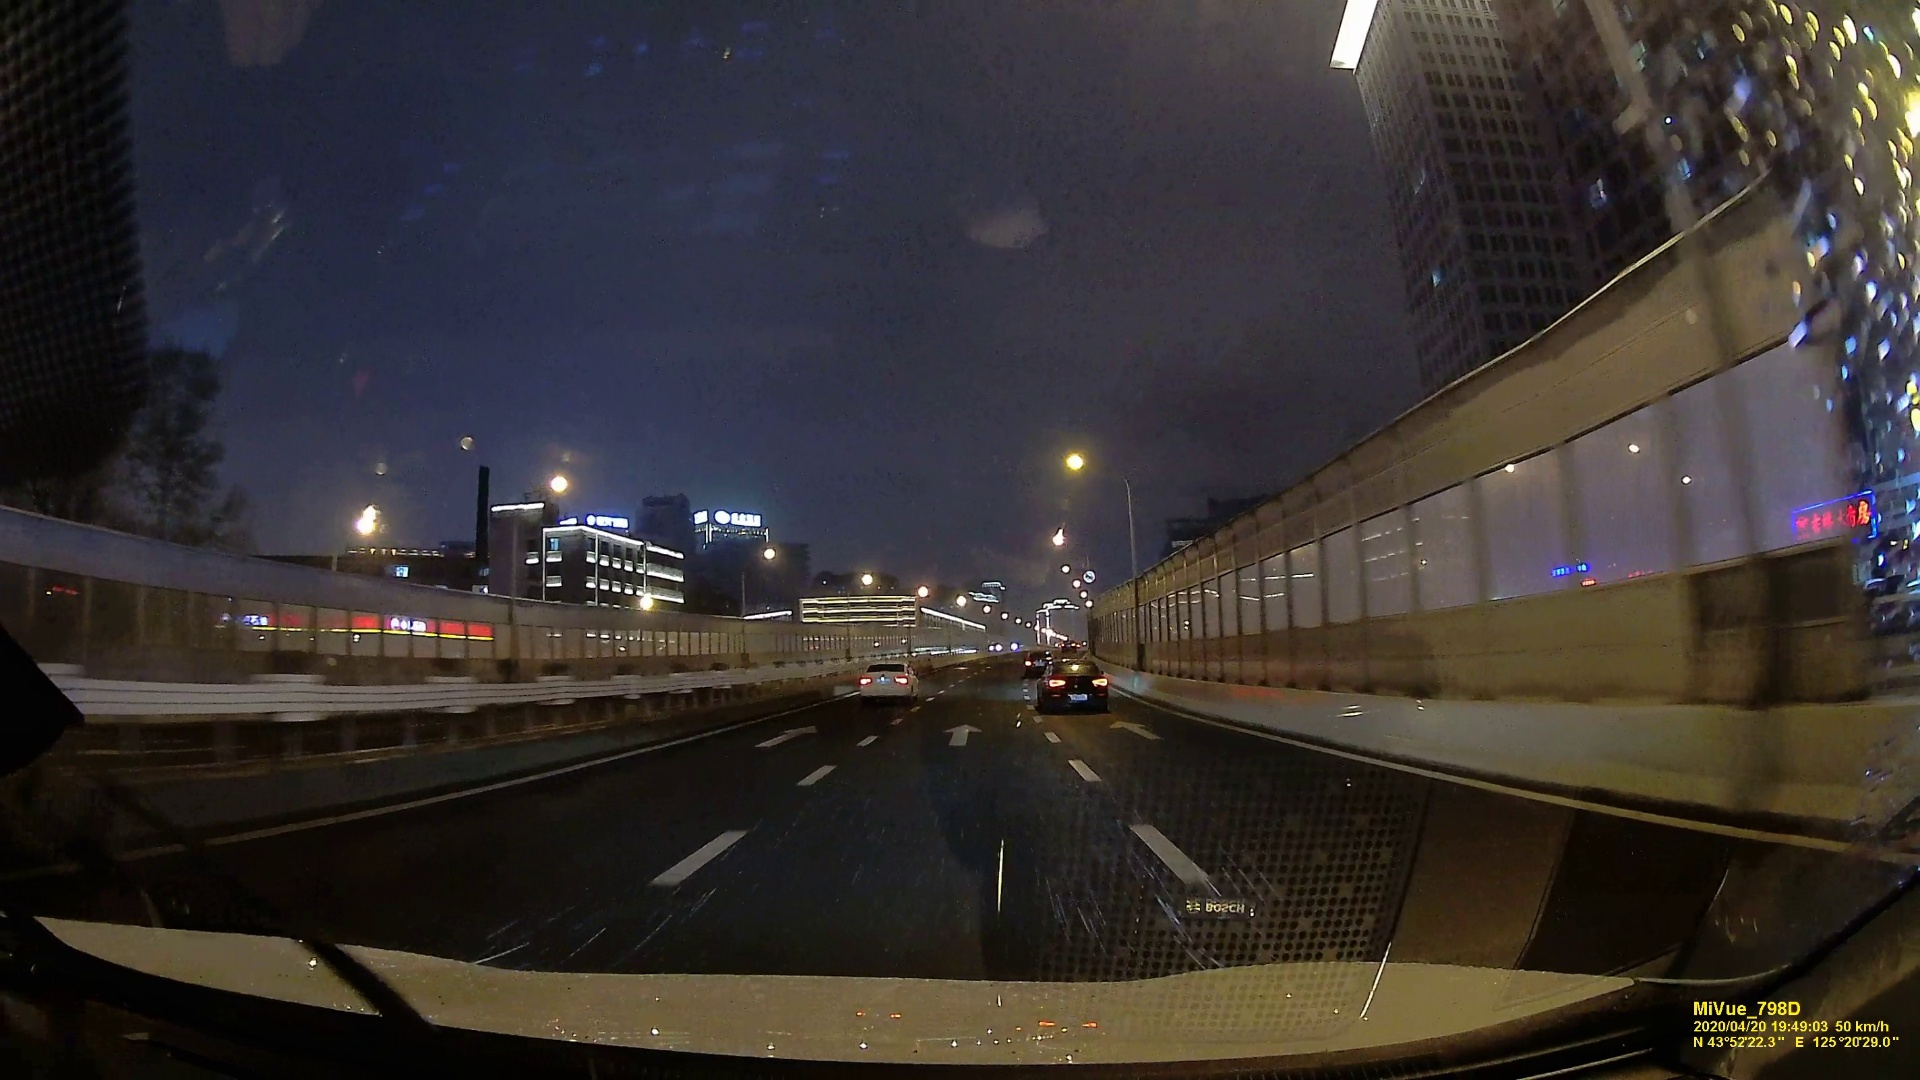vehicle: (1038, 659, 1110, 712), (858, 659, 916, 704)
